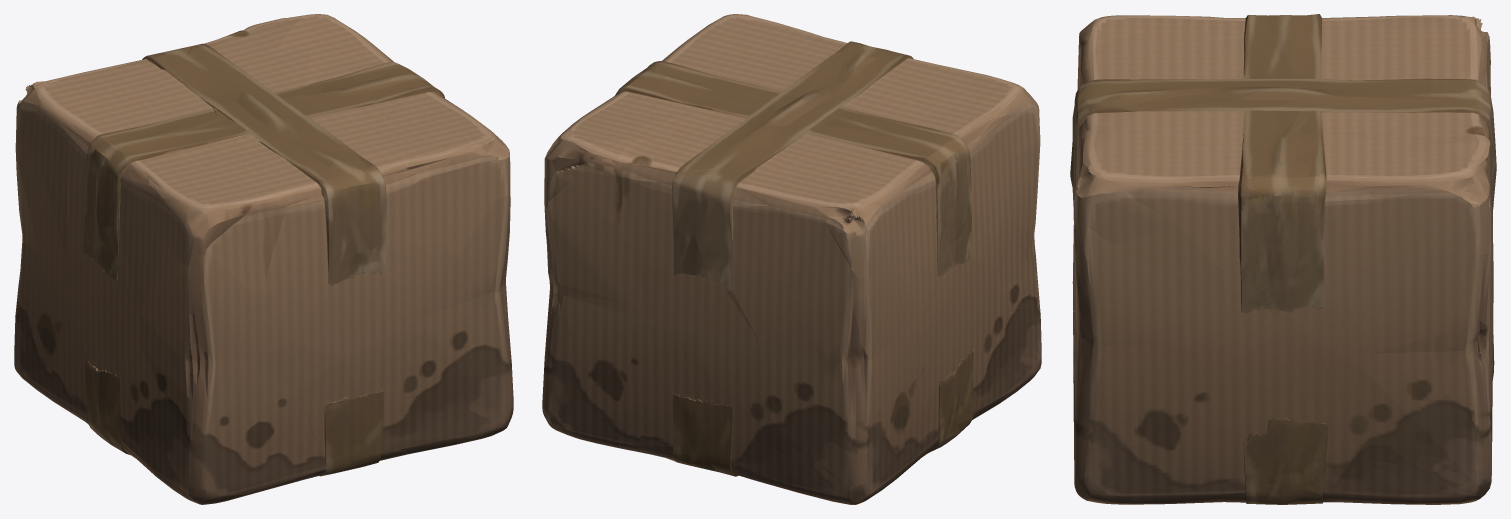
Rendered from scatolone_marrone.glb.
3 renders of one model, left to right at view 1: azimuth 30°, elevation 25°; view 2: azimuth 150°, elevation 25°; view 3: azimuth 270°, elevation 25°, orthographic. The views are drawn at different scales.
Parts seen in each view (by area): view 1: Mesh_0; view 2: Mesh_0; view 3: Mesh_0.
Part boxes in pixels (box(x1,y1,x2,y2)): Mesh_0: box(14, 14, 513, 504); Mesh_0: box(542, 14, 1041, 504); Mesh_0: box(1070, 14, 1496, 504).
Bounding box in the file's own units: 1.88 × 1.63 × 1.89.
Materials: 1 (1 with a texture image).
